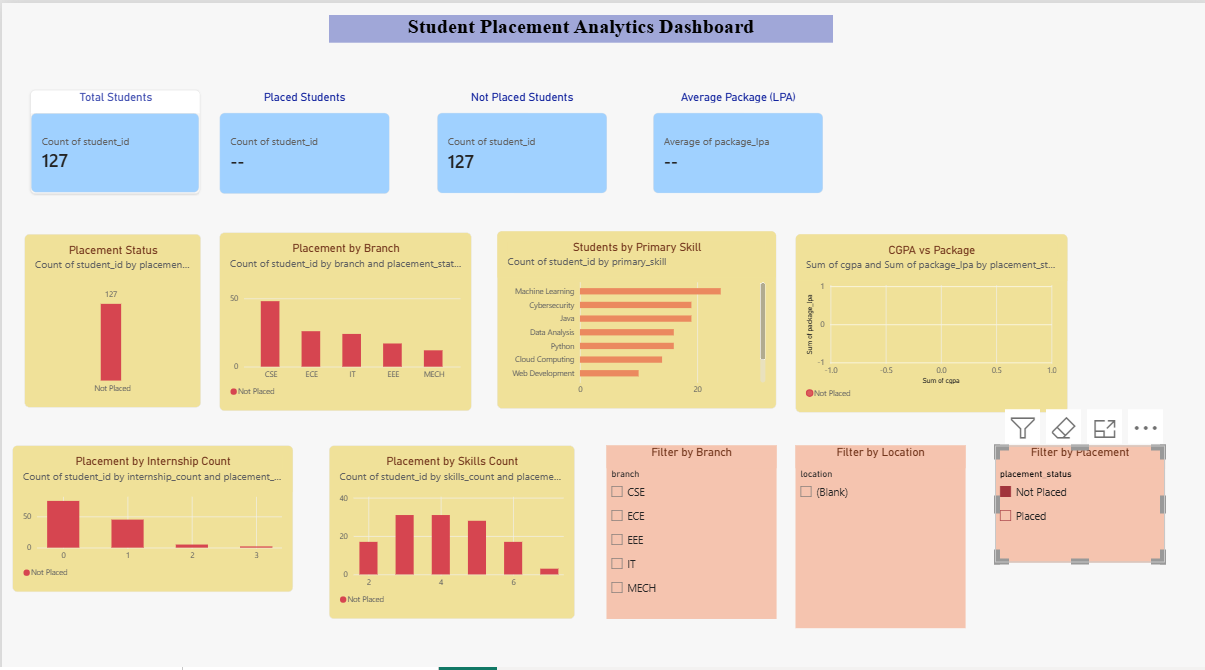

Layout of this report page (visuals, bound fields, positions):
{"tool":"powerbi","page":{"name":"Placement Overview","canvas":[1920,1080],"ordinal":0},"visuals":[{"type":"textbox","box":[518,20,800,44],"z":0},{"type":"cardVisual","title":"Total Students","fields":{"Data":["Count(placement_cleaned_data.student_id)"]},"box":[45,137.5,269.6,164.6],"z":1000},{"type":"cardVisual","title":"Placed Students","fields":{"Data":["CountNonNull(placement_cleaned_data.student_id)"]},"box":[345,137.5,270,165],"z":2000},{"type":"cardVisual","title":"Not Placed Students","fields":{"Data":["CountNonNull(placement_cleaned_data.student_id)"]},"box":[690,137.5,270,164],"z":3000},{"type":"cardVisual","title":"Average Package (LPA)","fields":{"Data":["Avg(placement_cleaned_data.package_lpa)"]},"box":[1032.5,137.5,270,164],"z":4000},{"type":"clusteredColumnChart","title":"Placement Status","fields":{"Category":["placement_cleaned_data.placement_status"],"Y":["CountNonNull(placement_cleaned_data.student_id)"]},"box":[35,367.5,280,275],"z":5000},{"type":"clusteredColumnChart","title":"Placement by Branch","fields":{"Category":["placement_cleaned_data.branch"],"Series":["placement_cleaned_data.placement_status"],"Y":["CountNonNull(placement_cleaned_data.student_id)"]},"box":[345,365,400,283.3],"z":6000},{"type":"clusteredBarChart","title":"Students by Primary Skill","fields":{"Category":["placement_cleaned_data.primary_skill"],"Y":["CountNonNull(placement_cleaned_data.student_id)"]},"box":[785,362.5,443.3,281.7],"z":7000},{"type":"scatterChart","title":"CGPA vs Package","fields":{"Series":["placement_cleaned_data.placement_status"],"X":["Sum(placement_cleaned_data.cgpa)"],"Y":["Sum(placement_cleaned_data.package_lpa)"]},"box":[1260,367.5,431.7,283.3],"z":8000},{"type":"slicer","title":"Filter by Branch","fields":{"Values":["placement_cleaned_data.branch"]},"box":[960,702.5,270,275],"z":9000},{"type":"slicer","title":"Filter by Placement","fields":{"Values":["placement_cleaned_data.placement_status"]},"box":[1575,702.5,270,186],"z":10000},{"type":"slicer","title":"Filter by Location","fields":{"Values":["placement_cleaned_data.location"]},"box":[1260,702.5,270,290],"z":11000},{"type":"clusteredColumnChart","title":"Placement by Internship Count","fields":{"Category":["placement_cleaned_data.internship_count"],"Series":["placement_cleaned_data.placement_status"],"Y":["CountNonNull(placement_cleaned_data.student_id)"]},"box":[17.5,702.5,445,232.5],"z":12000},{"type":"clusteredColumnChart","title":"Placement by Skills Count","fields":{"Category":["placement_cleaned_data.skills_count"],"Series":["placement_cleaned_data.placement_status"],"Y":["CountNonNull(placement_cleaned_data.student_id)"]},"box":[520,702.5,390,275],"z":12001}]}

Visuals, with their boxes in screenshot pixels (x1, y1, x2, y2), scaled from the page's 1920x1080 canvas onto the 1205x670 screenshot:
textbox: bbox=[325, 12, 827, 40]
"Total Students" cardVisual: bbox=[28, 85, 197, 187]
"Placed Students" cardVisual: bbox=[217, 85, 386, 188]
"Not Placed Students" cardVisual: bbox=[433, 85, 602, 187]
"Average Package (LPA)" cardVisual: bbox=[648, 85, 817, 187]
"Placement Status" clusteredColumnChart: bbox=[22, 228, 198, 399]
"Placement by Branch" clusteredColumnChart: bbox=[217, 226, 468, 402]
"Students by Primary Skill" clusteredBarChart: bbox=[493, 225, 771, 400]
"CGPA vs Package" scatterChart: bbox=[791, 228, 1062, 404]
"Filter by Branch" slicer: bbox=[602, 436, 772, 606]
"Filter by Placement" slicer: bbox=[988, 436, 1158, 551]
"Filter by Location" slicer: bbox=[791, 436, 960, 616]
"Placement by Internship Count" clusteredColumnChart: bbox=[11, 436, 290, 580]
"Placement by Skills Count" clusteredColumnChart: bbox=[326, 436, 571, 606]
